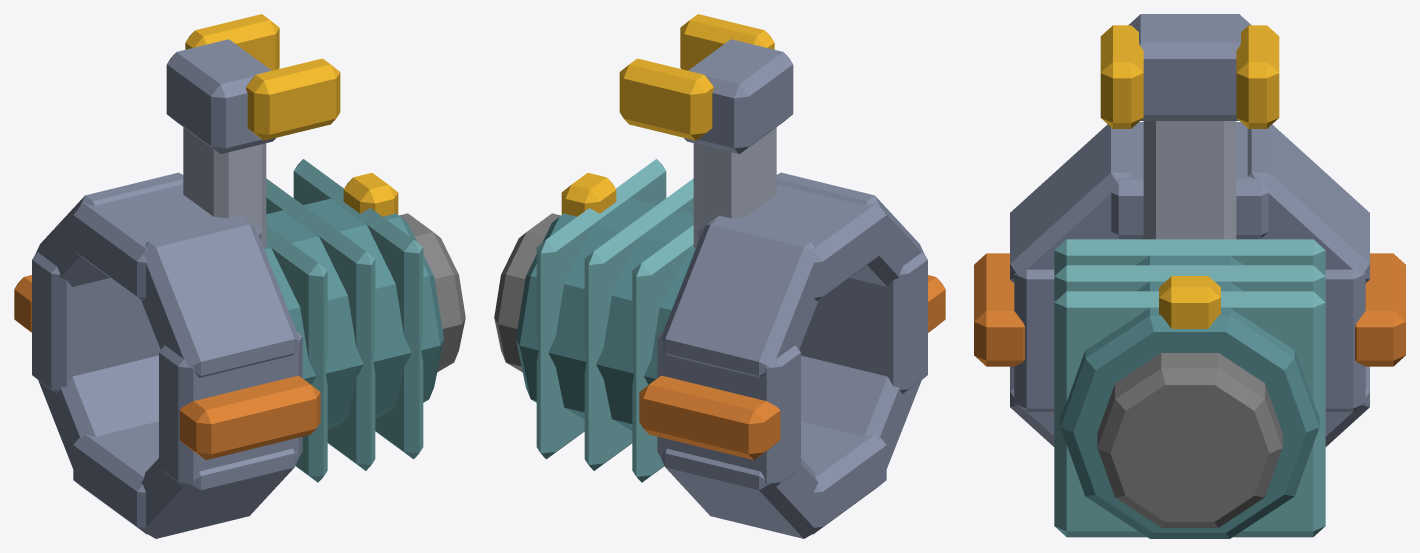
Rendered from crank_bot.glb.
3 renders of one model, left to right at view 1: azimuth 30°, elevation 25°; view 2: azimuth 150°, elevation 25°; view 3: azimuth 270°, elevation 25°, orthographic. The views are drawn at different scales.
Parts seen in each view (by area): view 1: crank_bot; view 2: crank_bot; view 3: crank_bot.
Part boxes in pixels (x1,y1,x2,y2): crank_bot: (14, 14, 465, 538); crank_bot: (494, 14, 945, 538); crank_bot: (974, 14, 1405, 538).
Size of the model in its own units: 0.34 by 0.4308 by 0.35.
